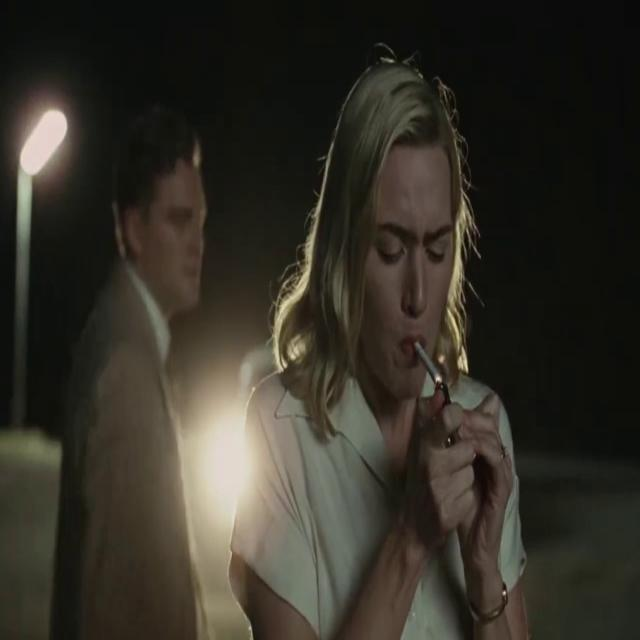Smooking: (414, 332, 453, 393)
